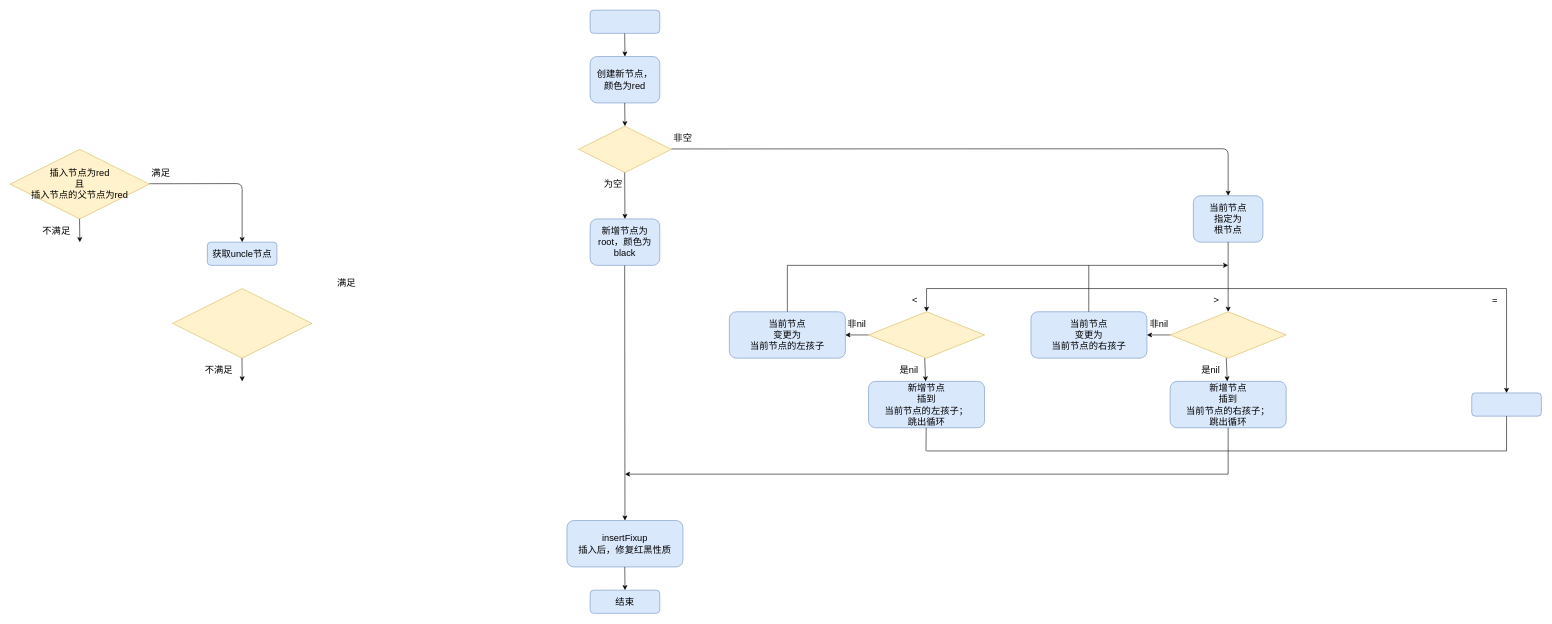
The diagram is 1552 pixels wide and 624 high, and some of its shapes have lost their labels. The centre of each missing label's shape, as x and y in pixels:
"rb-tree为空" belongs at point 624,149.
"uncle节点为nil 且 uncle节点为red" belongs at point 242,323.
"值已在树中； 跳出循环" belongs at point 1506,404.
"开始" belongs at point 625,21.
"当前节点的右孩子 为nil" belongs at point 1228,334.
"当前节点的左孩子 为nil" belongs at point 926,334.
